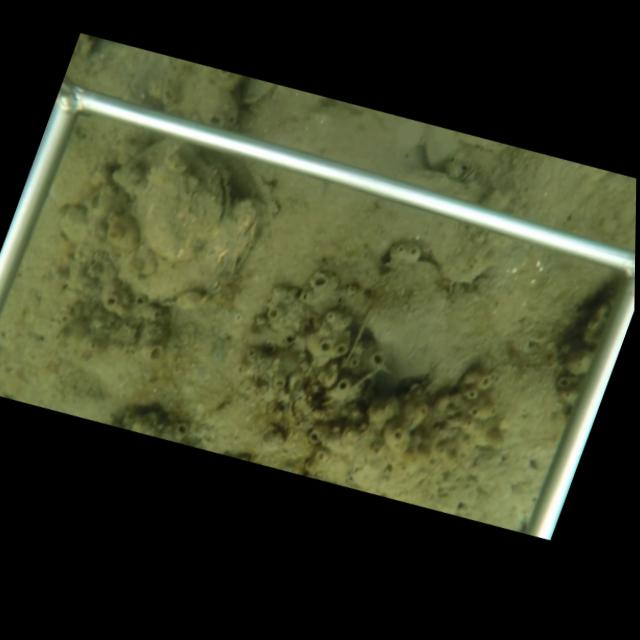Oyster-Closed: (113, 199, 266, 303), (109, 136, 232, 263)
Oyster-Indeterminate: (420, 125, 460, 172), (240, 80, 277, 108)
